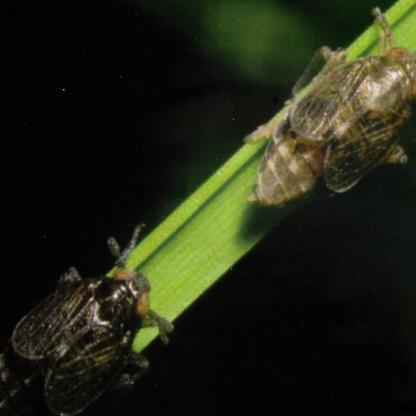brown-planthopper: (250, 45, 416, 207)
